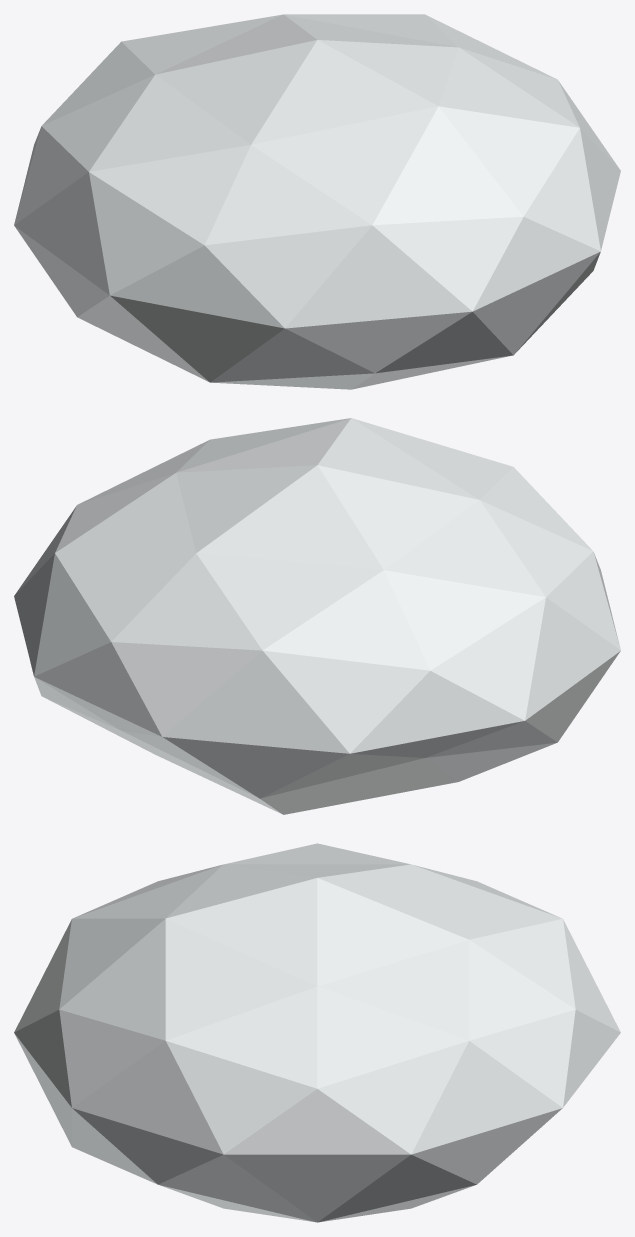
File: Puff.fbx
3 views of the same model, one above another, from view 1: azimuth 30°, elevation 25°; view 2: azimuth 150°, elevation 25°; view 3: azimuth 270°, elevation 25° (orthographic). The views are drawn at different scales.
Visible parts, largest first — view 1: Icosphere; view 2: Icosphere; view 3: Icosphere.
Boxes of the visible parts, x1,y1,x2,y2 form: Icosphere: (14, 14, 620, 389); Icosphere: (14, 418, 620, 814); Icosphere: (14, 843, 620, 1222).
Size of the model in its own units: 190 by 115 by 200.
